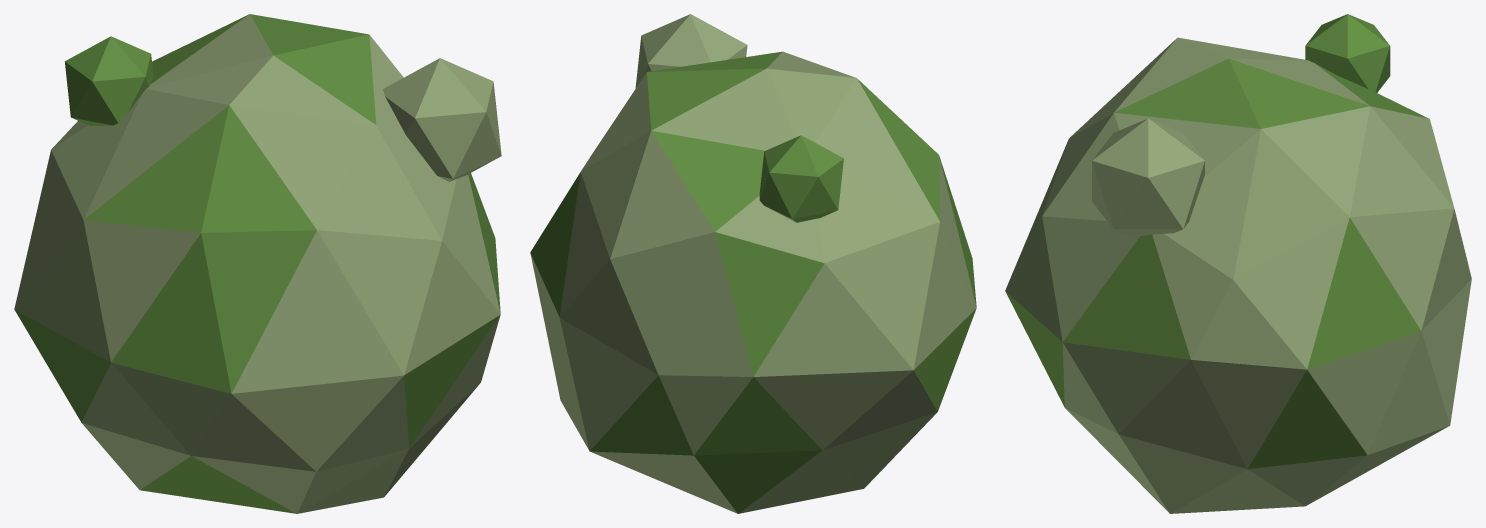
Rendered from BileBomb.fbx.
The picture shows the model from 3 angles, left to right: view 1: azimuth 30°, elevation 25°; view 2: azimuth 150°, elevation 25°; view 3: azimuth 270°, elevation 25°; orthographic projection. The views are drawn at different scales.
Visible parts, largest first — view 1: BileBomb; view 2: BileBomb; view 3: BileBomb.
Part boxes in pixels (left/top/right/bottom): BileBomb: left=14, top=14, right=501, bottom=513; BileBomb: left=530, top=14, right=976, bottom=513; BileBomb: left=1005, top=14, right=1471, bottom=513.
Bounding box in the file's own units: 1.5 × 1.5 × 1.5.
